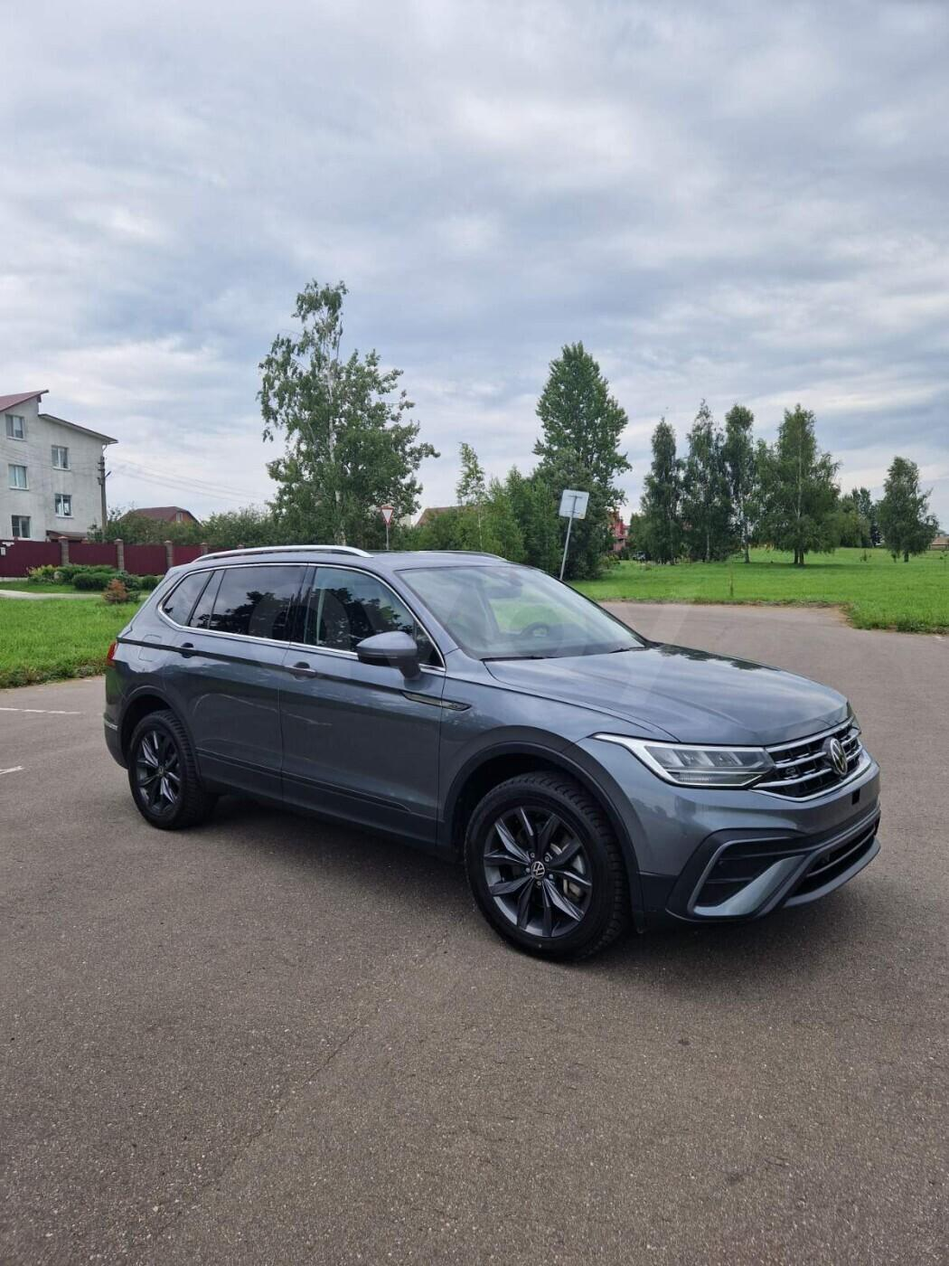Tiguan_2020-2024: (99, 534, 891, 969)
